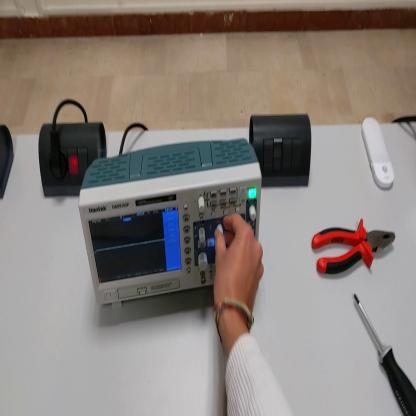hand: (214, 212, 265, 321)
oscilloscope: (80, 141, 263, 313)
pliers: (312, 211, 397, 283)
screwdriver-: (355, 296, 416, 414)
socket: (36, 117, 110, 201), (2, 124, 17, 200)
